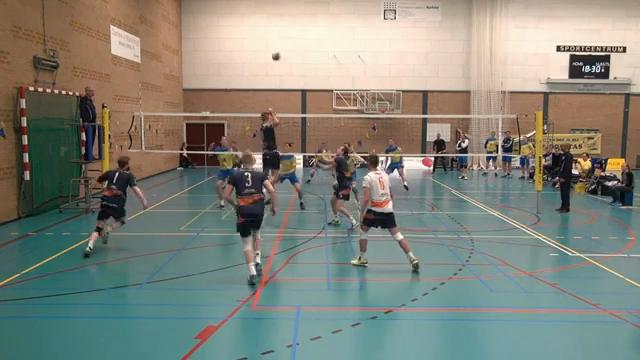alzata: (313, 142, 359, 234)
